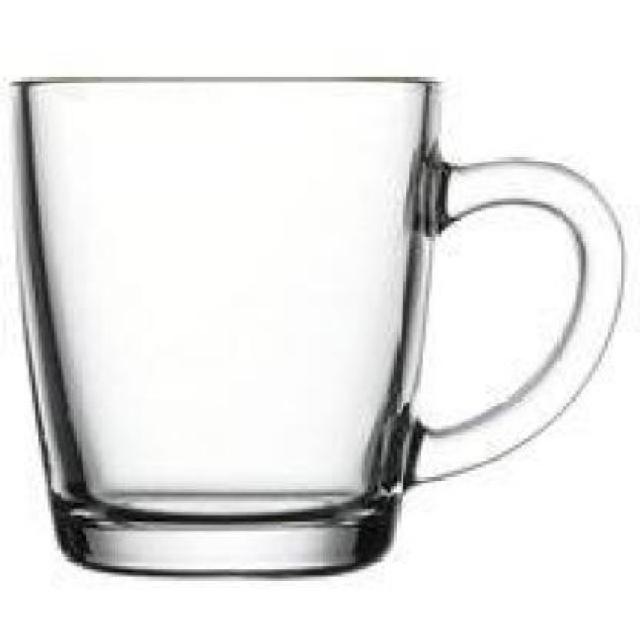kaca: (6, 74, 622, 575)
